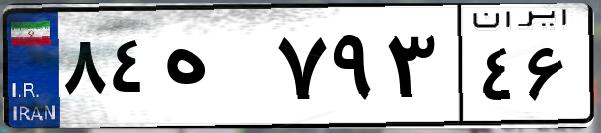3: (385, 28, 445, 110)
4: (475, 38, 525, 113), (110, 28, 158, 98)
6: (525, 38, 570, 115)
7: (270, 28, 330, 110)
8: (57, 26, 110, 100)
9: (330, 28, 385, 110)
ه: (158, 20, 270, 120)
